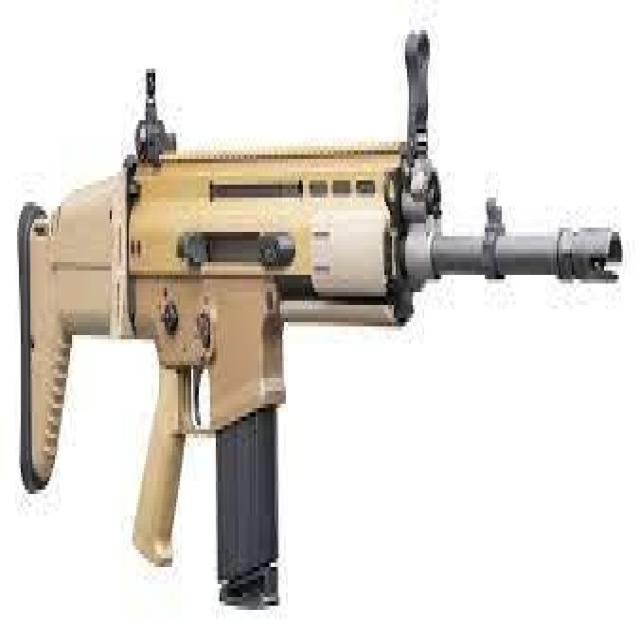Gun: (11, 50, 632, 635)
